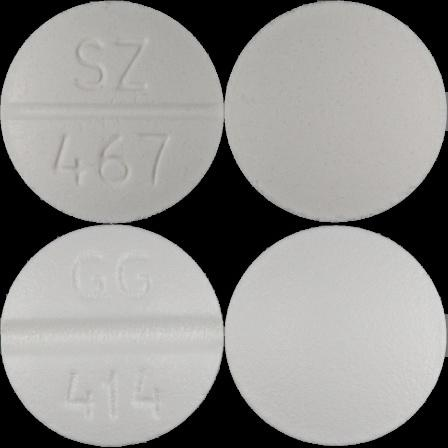0781-1183: (0, 0, 224, 224)
